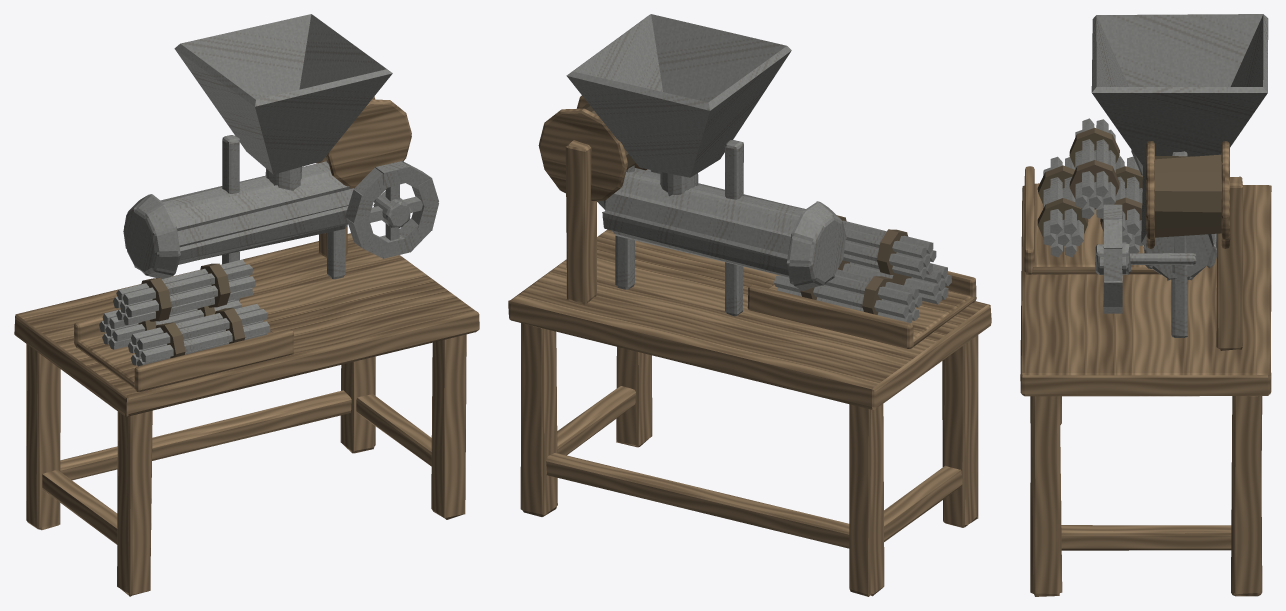
Rendered from needle_bundler.glb.
The picture shows the model from 3 angles, left to right: view 1: azimuth 30°, elevation 25°; view 2: azimuth 150°, elevation 25°; view 3: azimuth 270°, elevation 25°; orthographic projection. The views are drawn at different scales.
Visible parts, largest first — view 1: NeedleBundler; view 2: NeedleBundler; view 3: NeedleBundler.
Part boxes in pixels (x1,y1,x2,y2): NeedleBundler: (14,14,479,596); NeedleBundler: (508,14,991,596); NeedleBundler: (1020,14,1271,596).
Bounding box in the file's own units: 1.51 × 1.8 × 0.8421.
3 materials, 2 textured.
